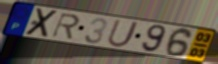3: (84, 17, 108, 45)
6: (163, 27, 195, 58)
9: (140, 24, 167, 53)
R: (50, 12, 81, 41)
U: (105, 19, 141, 49)
X: (23, 7, 62, 38)
